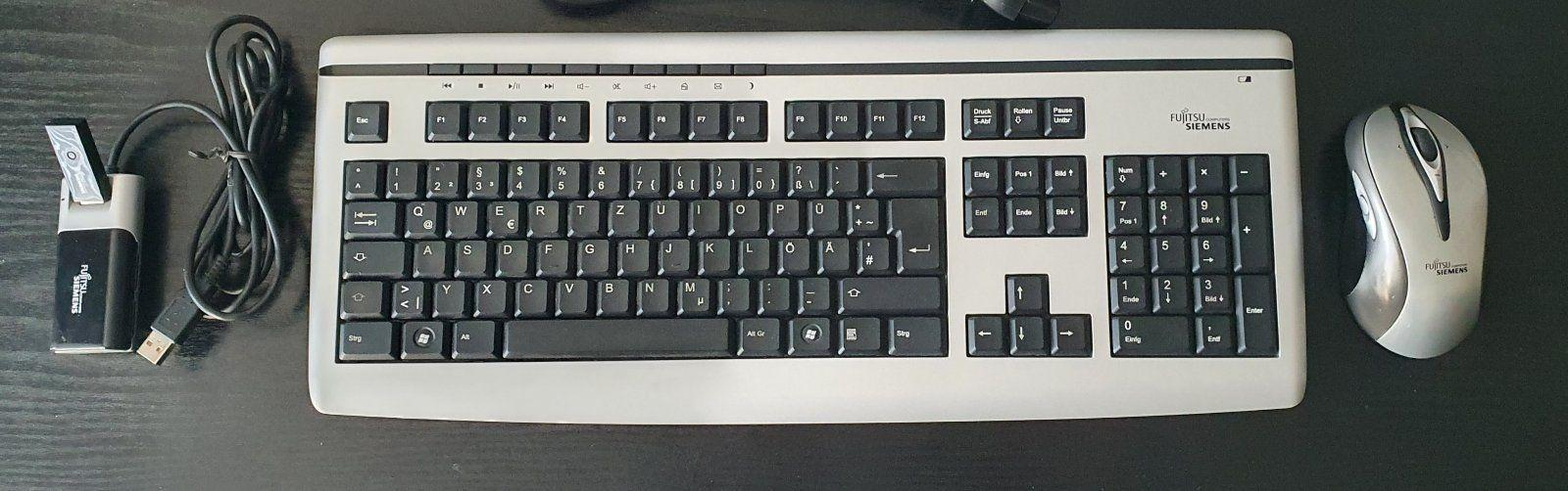0: (746, 156, 779, 195)
1: (384, 157, 416, 196)
2: (424, 156, 459, 196)
3: (465, 157, 500, 196)
4: (507, 157, 539, 196)
5: (547, 156, 579, 196)
6: (587, 156, 620, 195)
7: (627, 156, 661, 195)
8: (667, 156, 701, 195)
9: (707, 156, 739, 195)
a: (412, 238, 444, 274)
accent: (825, 156, 858, 193)
ae: (817, 235, 849, 271)
alt-left: (450, 317, 493, 355)
altgr-right: (736, 315, 779, 352)
b: (595, 276, 628, 312)
c: (514, 277, 547, 312)
caret: (342, 157, 376, 195)
comma: (716, 276, 749, 311)
d: (495, 238, 527, 274)
del: (865, 155, 941, 192)
e: (485, 198, 519, 235)
enter: (886, 193, 939, 271)
f: (536, 237, 567, 273)
g: (575, 236, 609, 272)
h: (616, 237, 649, 272)
hash: (857, 234, 888, 271)
i: (688, 198, 718, 232)
j: (657, 236, 689, 272)
k: (698, 236, 729, 272)
keyboard: (299, 26, 1312, 431)
l: (737, 235, 768, 271)
less: (389, 277, 423, 314)
m: (677, 276, 709, 312)
minus: (798, 275, 829, 310)
n: (635, 276, 668, 311)
o: (727, 198, 759, 232)
oe: (776, 235, 809, 272)
p: (766, 197, 798, 232)
plus: (845, 195, 877, 233)
point: (758, 275, 789, 310)
q: (403, 198, 436, 235)
r: (527, 198, 559, 234)
s: (453, 237, 486, 274)
shift-left: (339, 278, 381, 314)
shift-lock: (341, 237, 404, 275)
shift-right: (838, 274, 941, 309)
space: (502, 316, 728, 355)
ss: (786, 156, 819, 194)
strg-left: (335, 317, 391, 357)
strg-right: (886, 314, 945, 354)
t: (566, 198, 599, 234)
tab: (342, 199, 395, 235)
u: (648, 198, 679, 233)
ue: (806, 196, 839, 232)
v: (555, 276, 586, 312)
w: (445, 198, 477, 235)
x: (473, 277, 506, 312)
y: (432, 278, 464, 314)
z: (607, 197, 639, 233)
